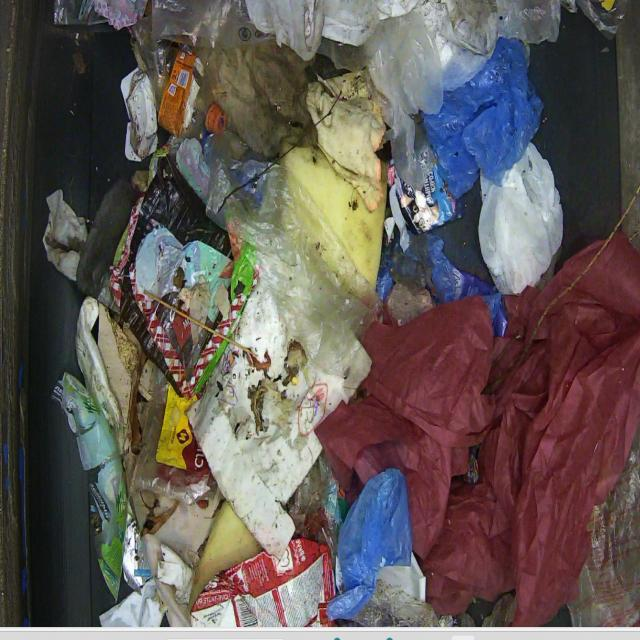plasticcover: (387, 320, 640, 581), (310, 0, 570, 200), (212, 143, 378, 374), (461, 134, 570, 299), (326, 466, 416, 620)
